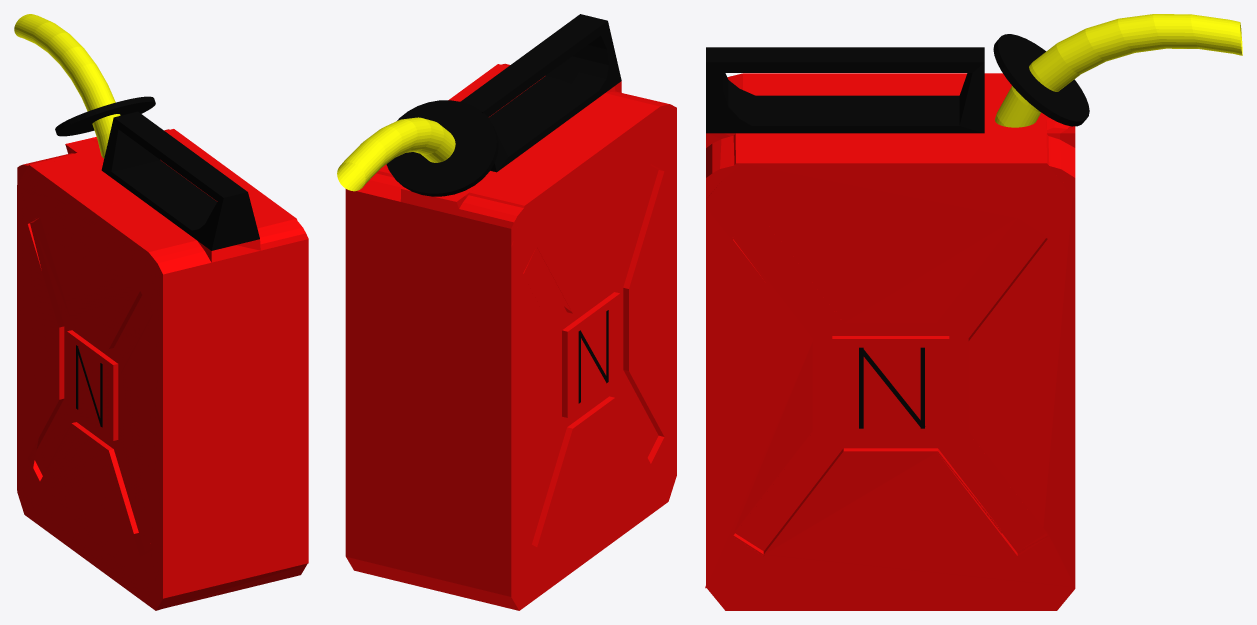
Rendered from gascan.glb.
3 views of the same model, side by side, from view 1: azimuth 30°, elevation 25°; view 2: azimuth 150°, elevation 25°; view 3: azimuth 270°, elevation 25° (orthographic). The views are drawn at different scales.
Parts seen in each view (by area): view 1: StorageTank, Handle, Tube, Guard, Logo.001; view 2: StorageTank, Handle, Guard, Tube, Logo.001; view 3: StorageTank, Handle, Tube, Guard, Logo.
Boxes of the visible parts, x1,y1,x2,y2 form: StorageTank: (17, 129, 308, 610); Handle: (101, 111, 259, 250); Tube: (14, 14, 120, 158); Guard: (55, 96, 155, 136); Logo.001: (76, 345, 102, 427); StorageTank: (345, 63, 676, 610); Handle: (460, 14, 621, 172); Guard: (386, 100, 498, 196); Tube: (337, 117, 455, 191); Logo.001: (578, 310, 608, 403); StorageTank: (705, 73, 1075, 610); Handle: (706, 47, 984, 133); Tube: (995, 14, 1242, 127); Guard: (993, 34, 1089, 126); Logo: (859, 347, 925, 428).
Size of the model in its own units: 1.52 by 4.3 by 3.8.
